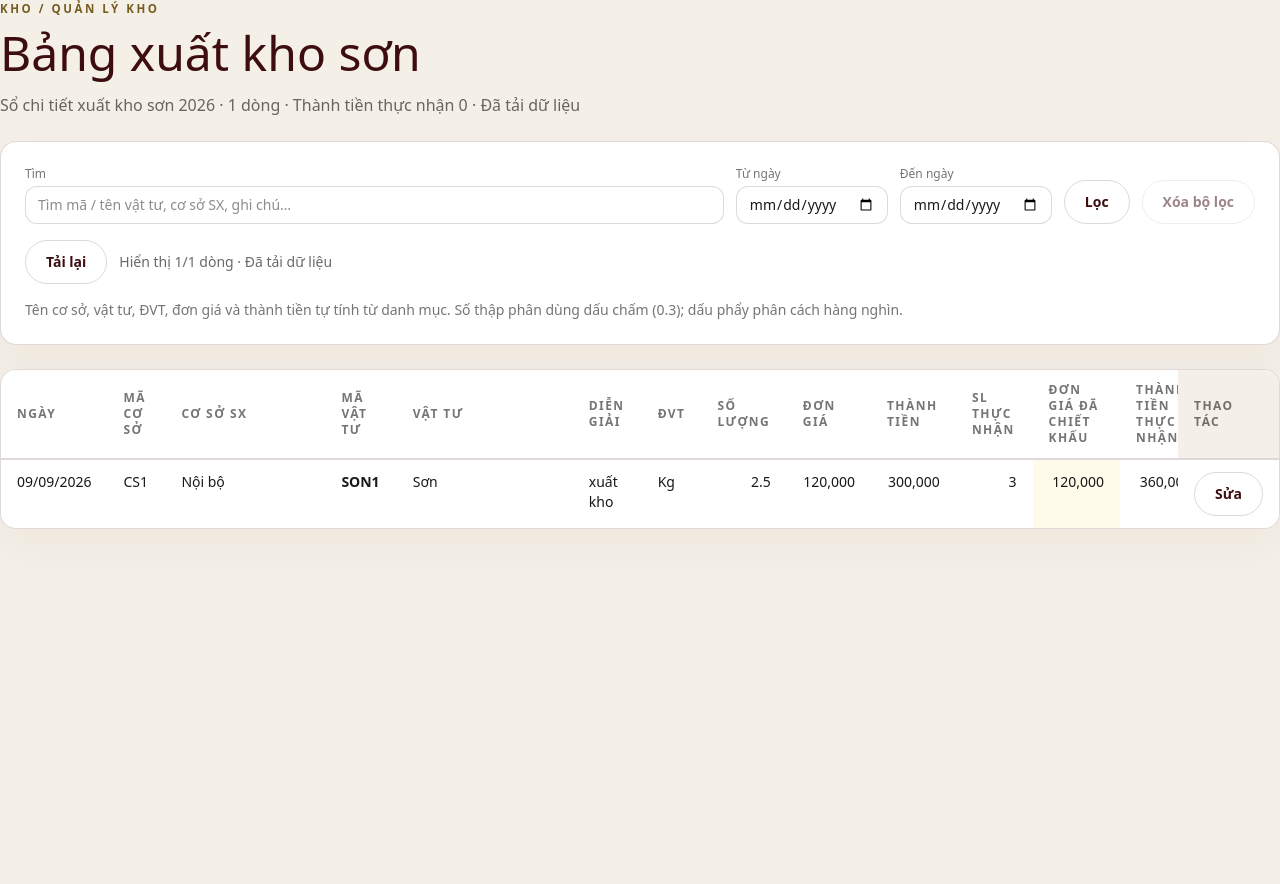
Test: bảng xuất kho sơn page › derives tên cơ sở, vật tư and thành tiền from the danh mục, keeping a hand-set đơn giá
Click the button "Sửa".
click(1228, 494)  # box [1194,472,1263,516]
(page scrolled)
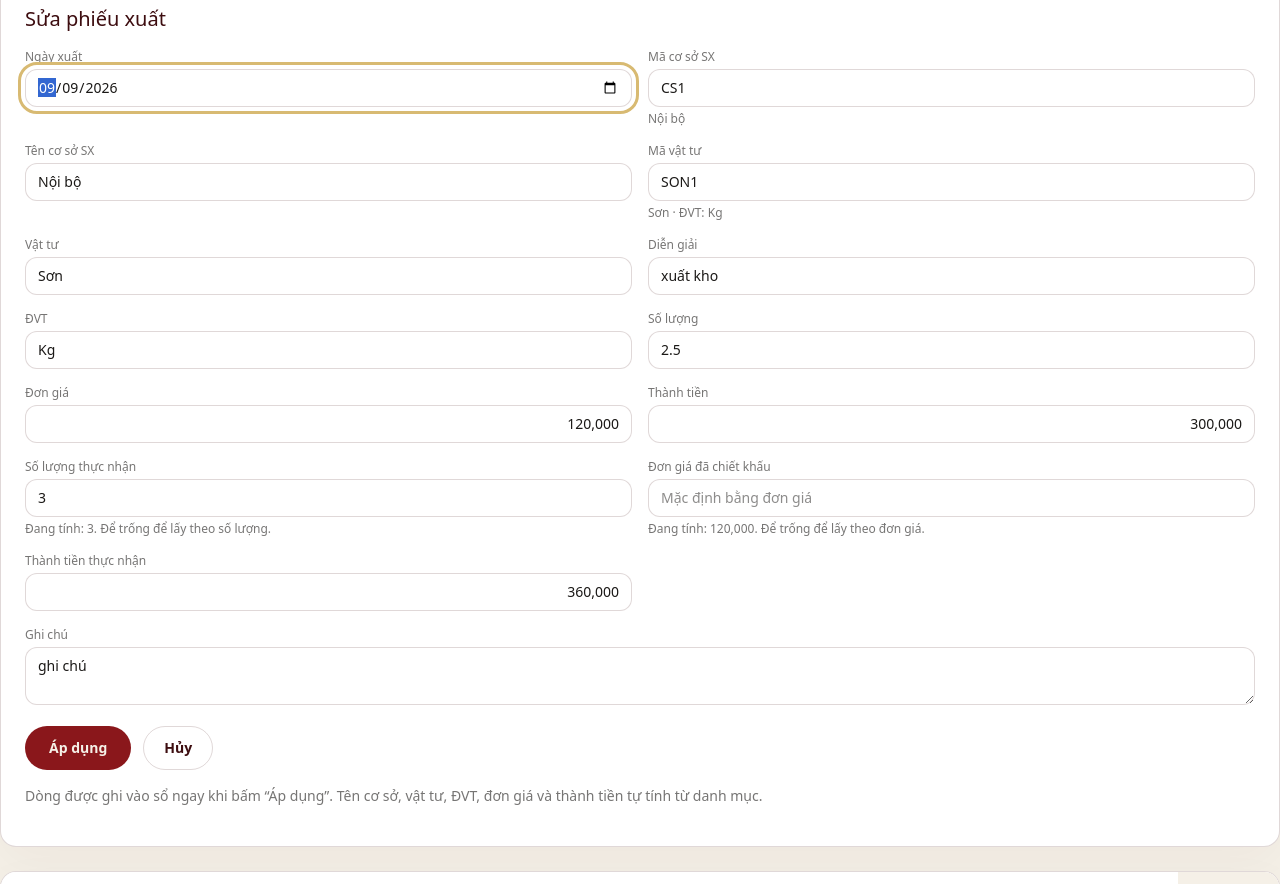
Now the field labelled "Thành tiền thực nhận" holds "360,000", box [25,573,632,611]
Type "100000" into the field labelled "Đơn giá đã chiết khấu".
click(952, 498); type("100000")  # box [648,479,1255,517]
(page scrolled)
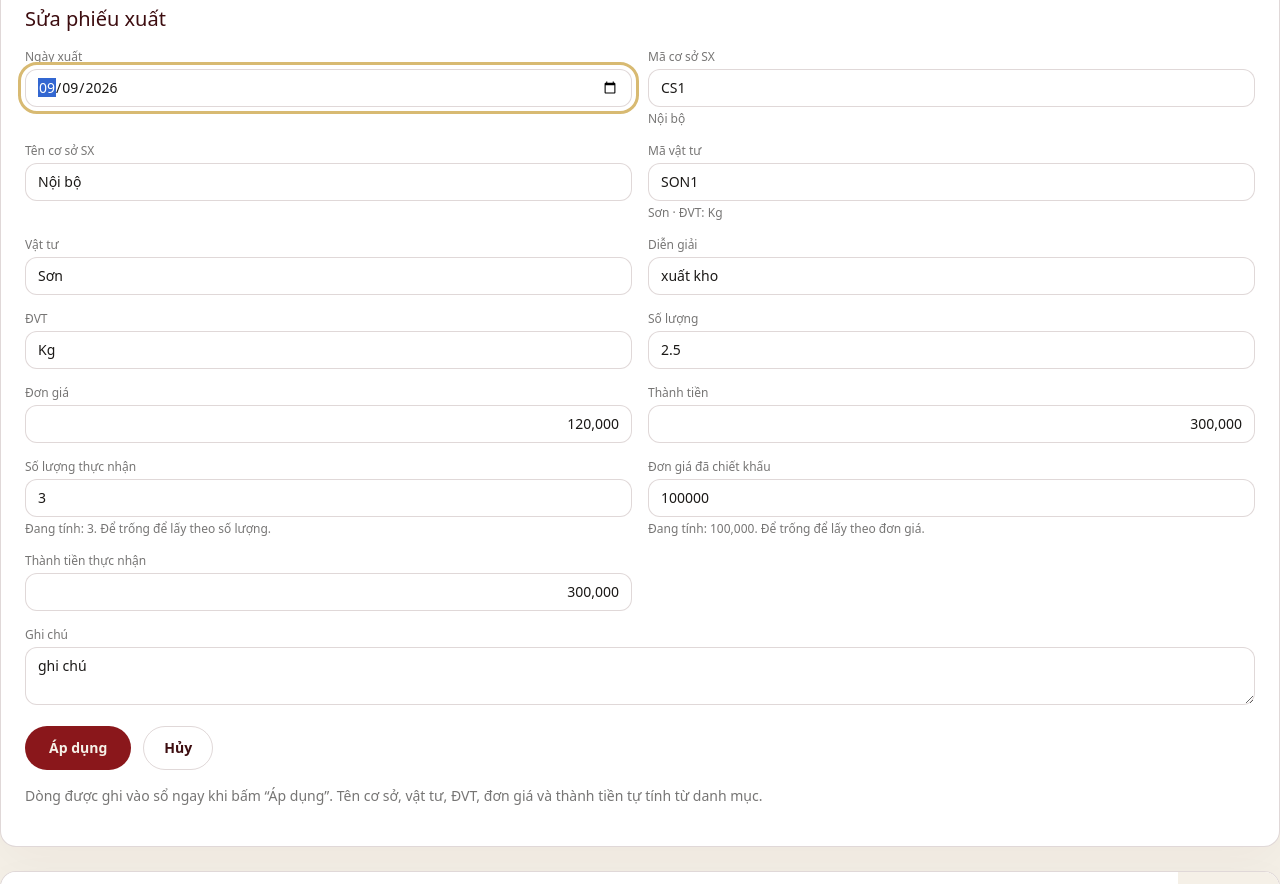
Now the field labelled "Thành tiền thực nhận" holds "300,000", box [25,573,632,611]
A catalogue *name* resolves to its code, and the new đơn giá follows.
Replace the text in the field labelled "Mã vật tư" with "sơn mới" at (952, 182), box [648,163,1255,201]
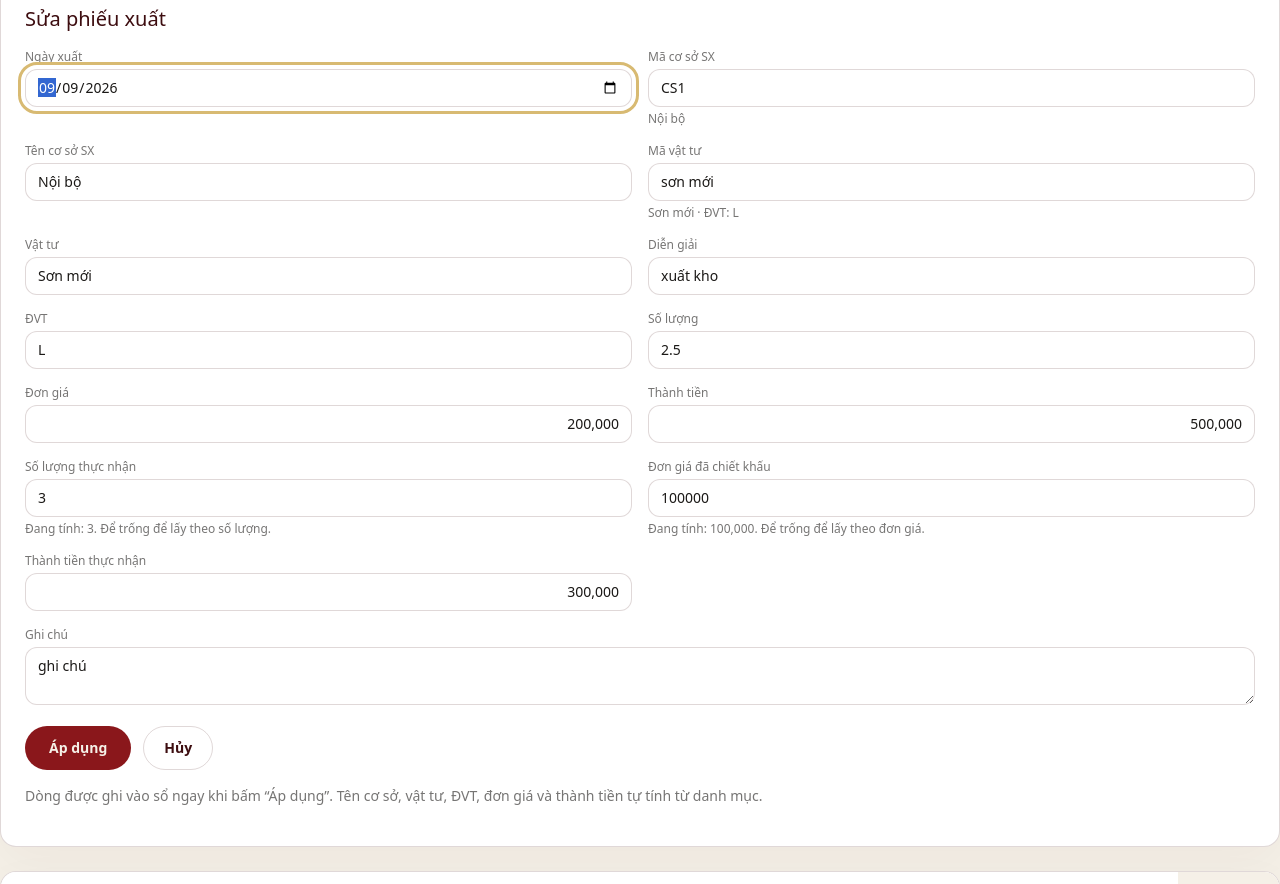
Now the field labelled "Vật tư" holds "Sơn mới", box [25,257,632,295]
Now the field labelled "ĐVT" holds "L", box [25,331,632,369]
Now the field labelled "Đơn giá" holds "200,000", box [25,405,632,443]
Click the button "Áp dụng".
click(78, 748)  # box [25,726,131,770]
(page scrolled)
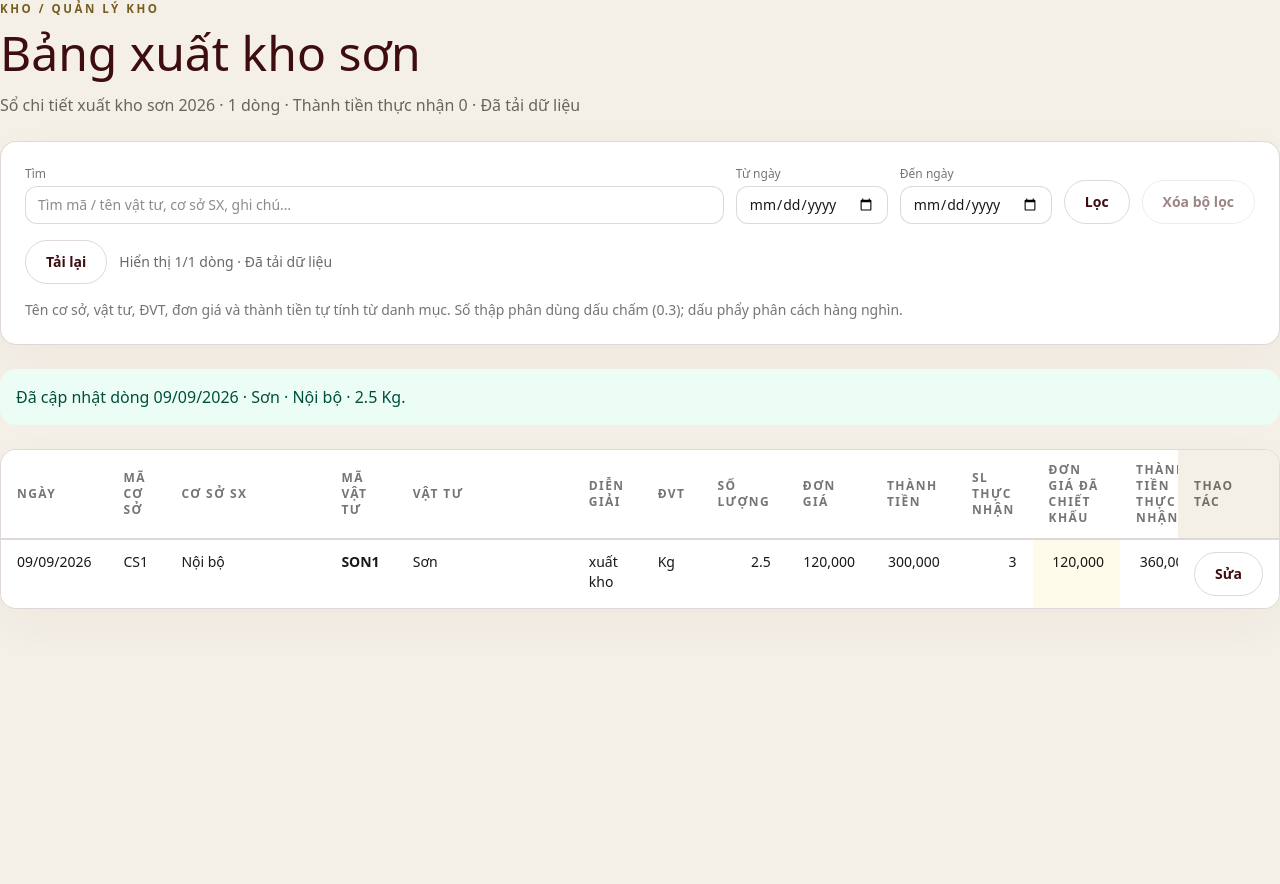
Now the text "Đã cập nhật dòng 09/09/2026 · Sơn · Nội bộ · 2.5 Kg." is shown, box [0,369,1279,425]
